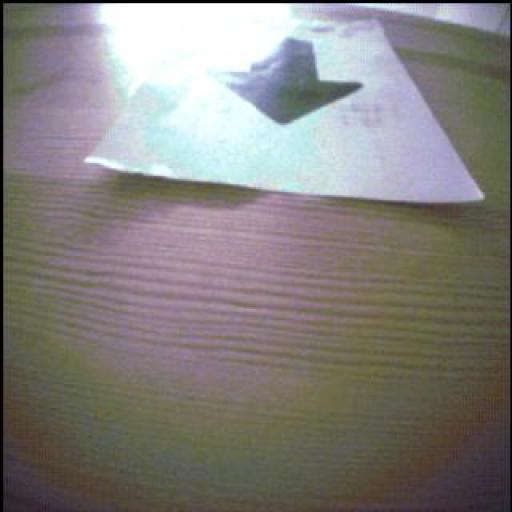arrow: (216, 39, 363, 126)
